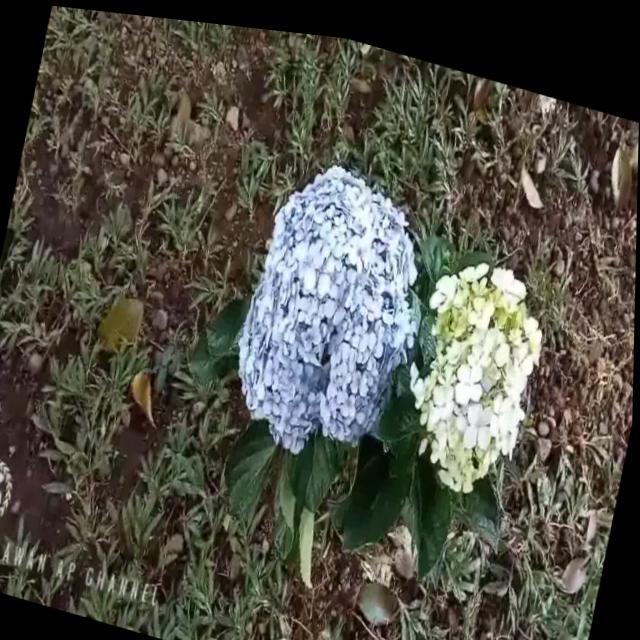Flower: (215, 126, 449, 486), (398, 238, 554, 506)
